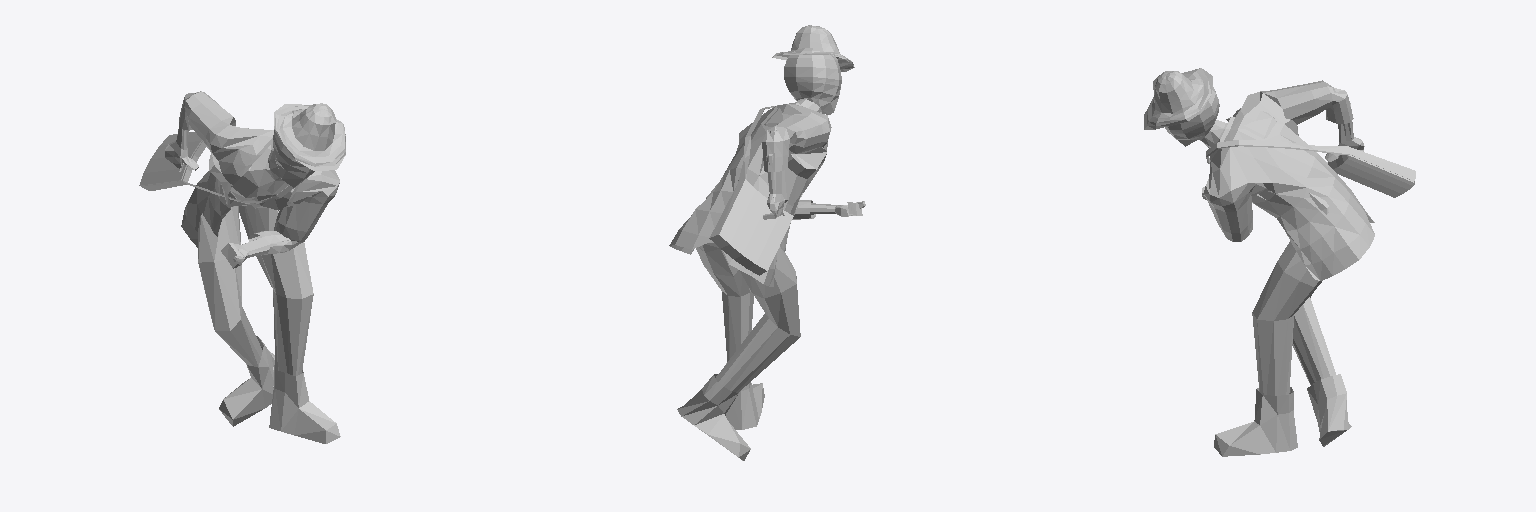
File: rightyHo_4.obj
The picture shows the model from 3 angles: view 1: azimuth 30°, elevation 25°; view 2: azimuth 150°, elevation 25°; view 3: azimuth 270°, elevation 25°; orthographic projection.
Parts seen in each view (by area): view 1: Default_Body_Cube, Jacket_Cube.004, Default_Body.001_Cube.001, Hat_Cube.005, MessengerBag_Circle; view 2: Default_Body_Cube, Jacket_Cube.004, MessengerBag_Circle, Default_Body.001_Cube.001, Hat_Cube.005; view 3: Jacket_Cube.004, Default_Body_Cube, Default_Body.001_Cube.001, MessengerBag_Circle, Hat_Cube.005.
Part boxes in pixels (left/top/right/bottom): Default_Body_Cube: left=165, top=92, right=314, bottom=387; Jacket_Cube.004: left=179, top=91, right=339, bottom=254; Default_Body.001_Cube.001: left=219, top=336, right=340, bottom=443; Hat_Cube.005: left=274, top=103, right=345, bottom=170; MessengerBag_Circle: left=139, top=132, right=297, bottom=203; Default_Body_Cube: left=696, top=48, right=865, bottom=408; Jacket_Cube.004: left=669, top=102, right=831, bottom=286; MessengerBag_Circle: left=709, top=105, right=802, bottom=275; Default_Body.001_Cube.001: left=677, top=363, right=764, bottom=460; Hat_Cube.005: left=772, top=25, right=854, bottom=71; Jacket_Cube.004: left=1204, top=80, right=1374, bottom=280; Default_Body_Cube: left=1165, top=79, right=1364, bottom=431; Default_Body.001_Cube.001: left=1214, top=374, right=1351, bottom=456; MessengerBag_Circle: left=1206, top=140, right=1415, bottom=197; Hat_Cube.005: left=1144, top=68, right=1212, bottom=129.
Size of the model in its own units: 1.62 by 4.85 by 3.16.